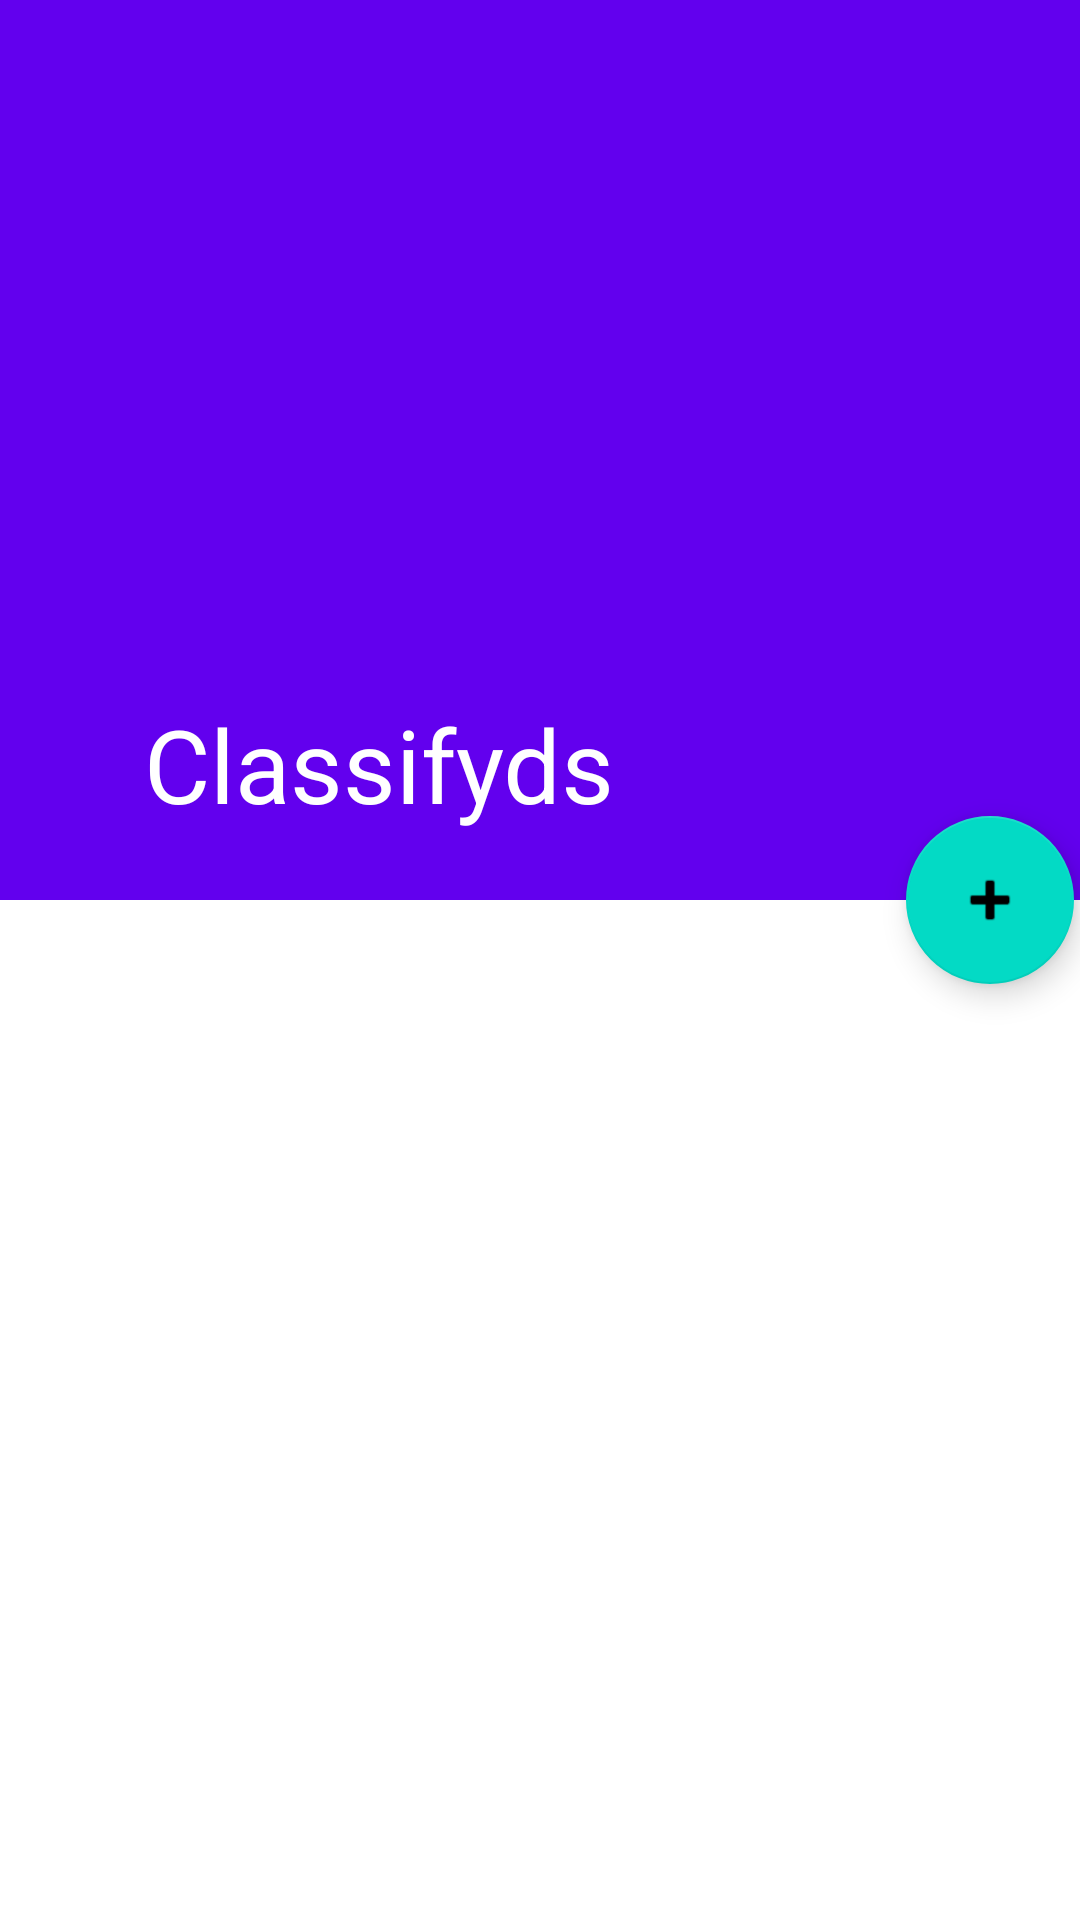

Icons on this 1080x1920 Android screen, each with the point to tap as (x=x, y=y):
add: (x=990, y=900)
